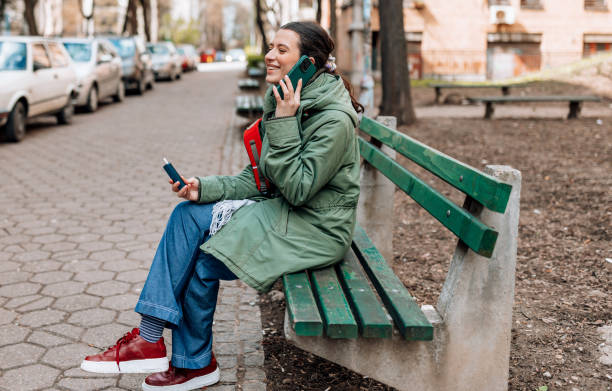cigarette: (161, 155, 187, 189)
